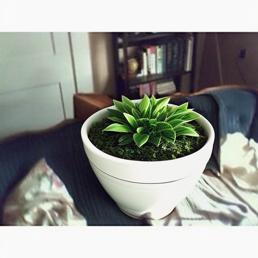pottedplant: (73, 94, 220, 219)
sofa: (2, 86, 258, 227)
